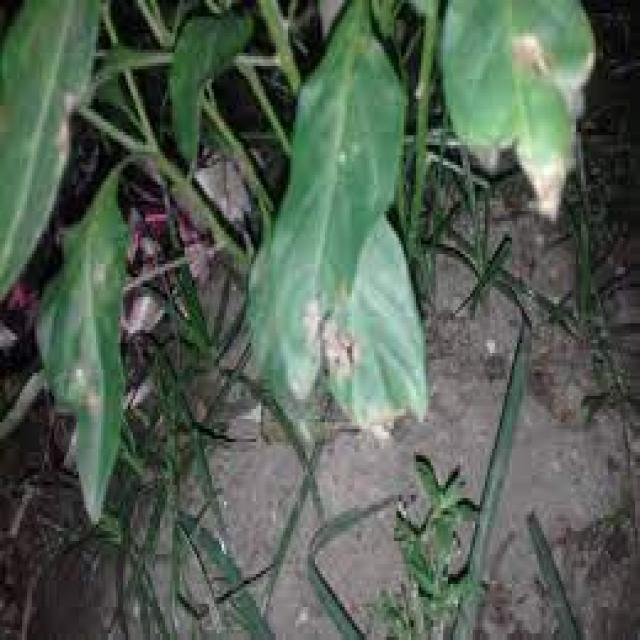bercak_daun: (285, 242, 425, 451)
